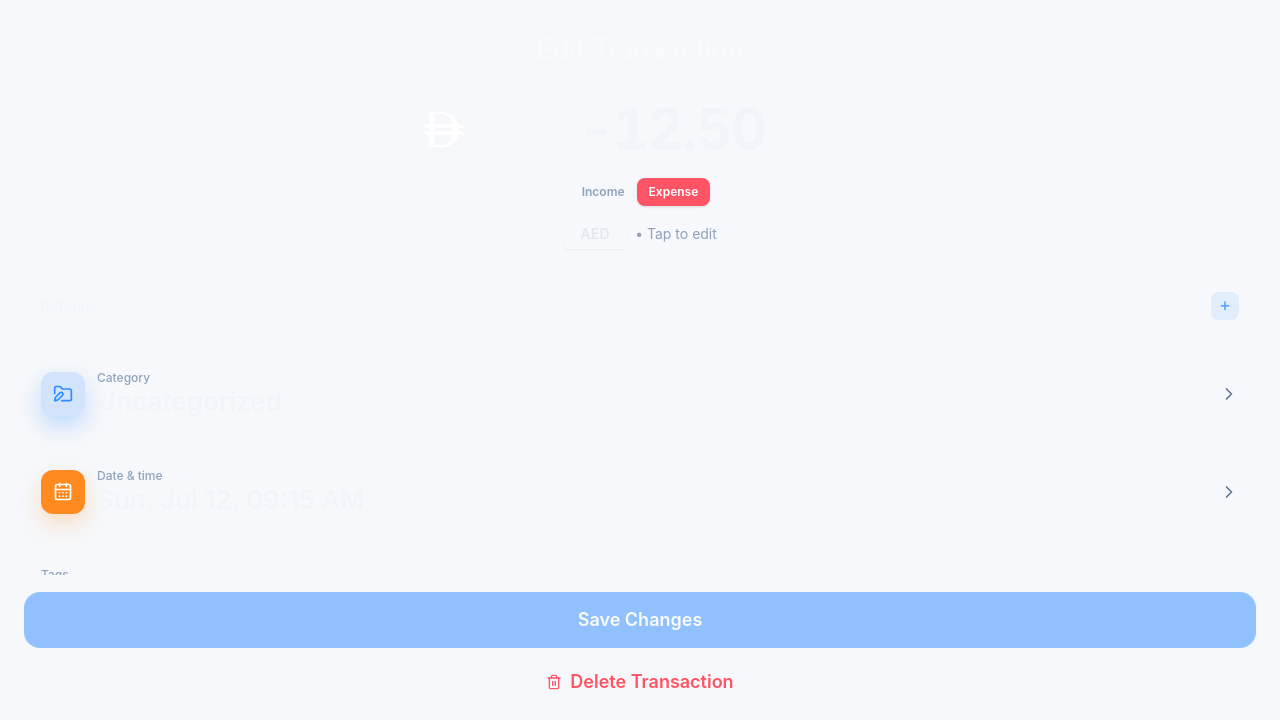
Test: TransactionEditDialog › filters category choices after the transaction direction changes
The width and height of the screenshot is (1280, 720).
What coordinates should you click on to do the following:
click the button with test id "tx-edit-sign-income"
I would click on:
 (603, 192)
Its box is x1=570 y1=178 x2=637 y2=206.
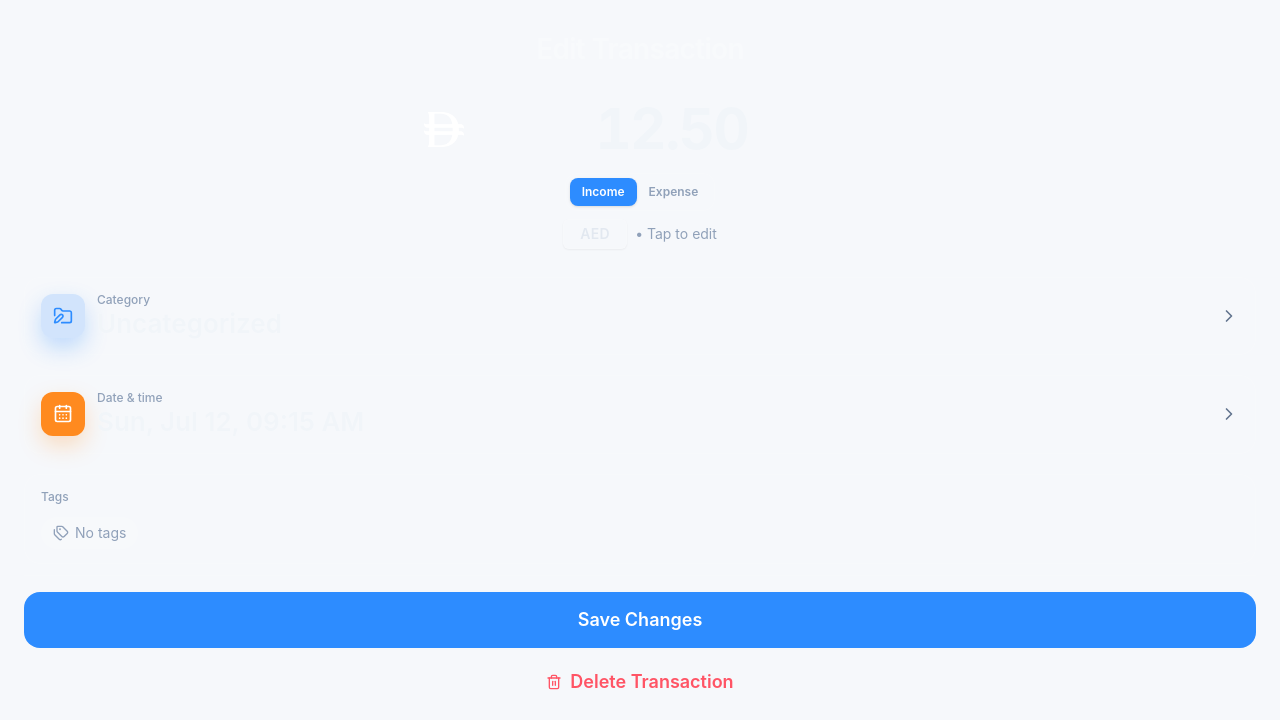
What coordinates should you click on to do the following:
click the button with test id "tx-edit-open-category"
I would click on:
 (63, 316)
Its box is x1=24 y1=277 x2=1256 y2=355.
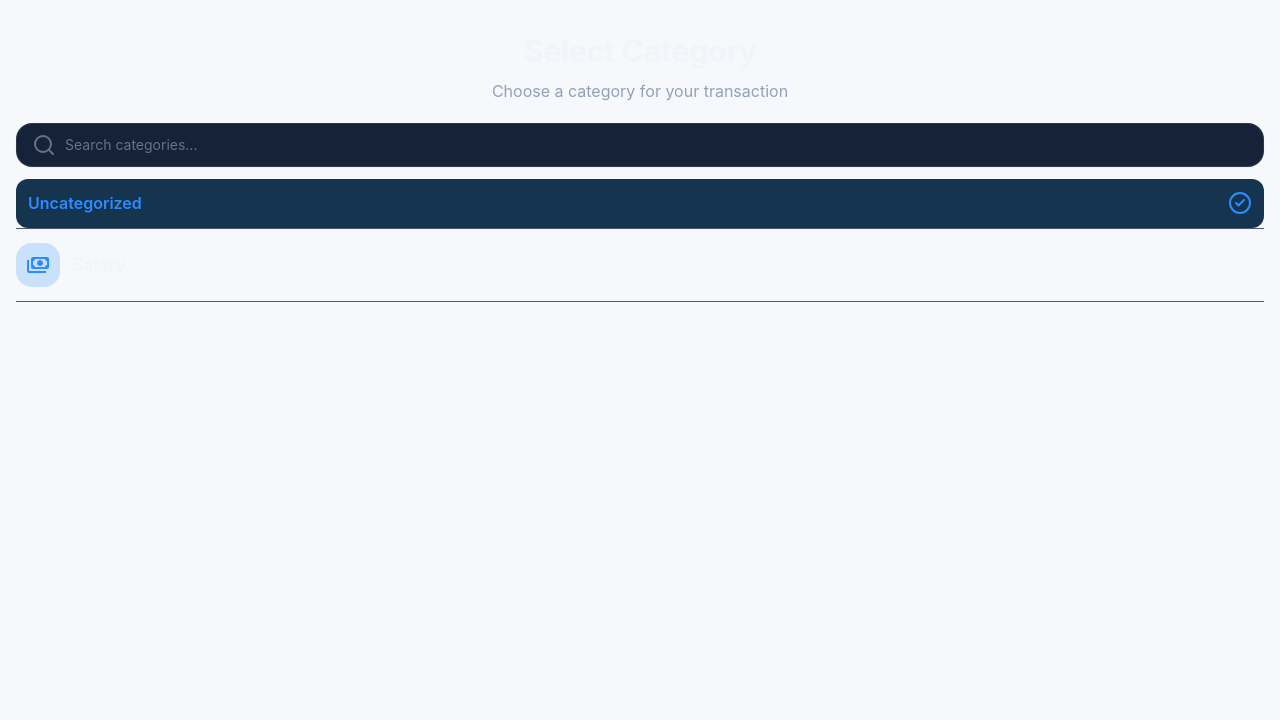
expect the button with test id "tx-category-option-2" reads "Salary": met, box x1=16 y1=237 x2=1264 y2=293
